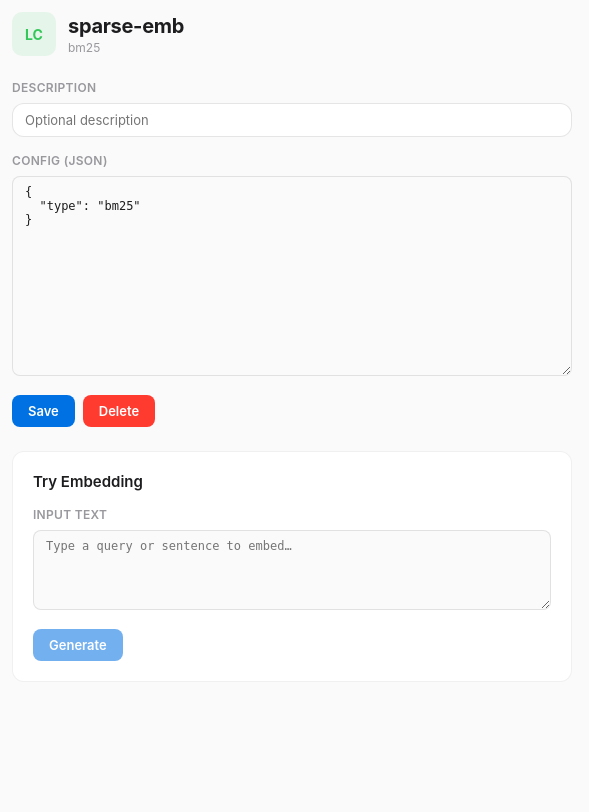
it: EmbeddingDetailPage › renders sparse try-embedding output
Expected: the text "sparse-emb" is shown, [68,14,184,38]
In the text box with placeholder "Type a query or sentence to embed…": (292, 570) [33,530,551,610], type "hello sparse"
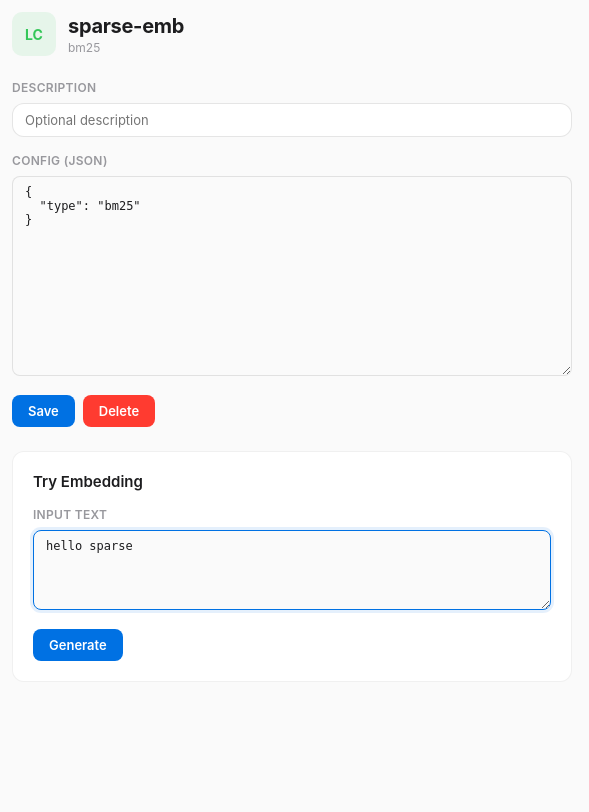
Click the button "Generate": (78, 645) [33,629,123,661]
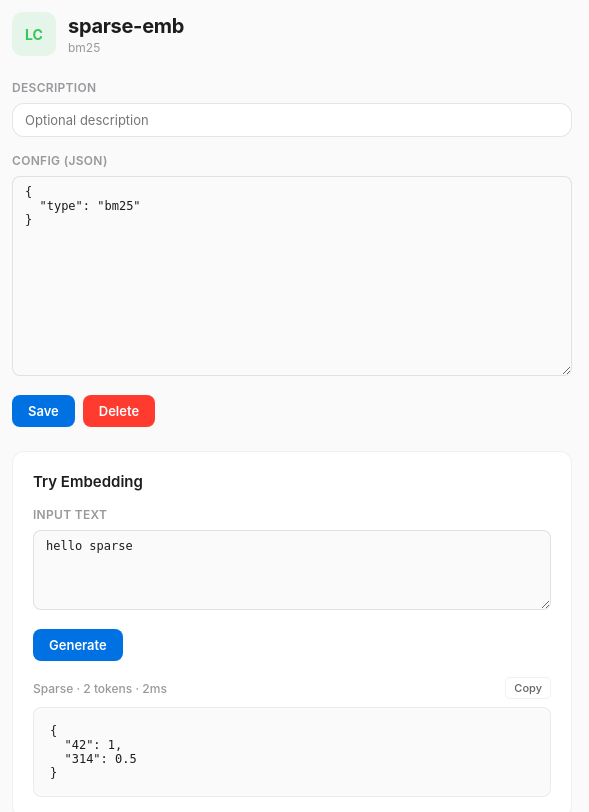
Expected: the text "Sparse · 2 tokens · 2ms" is shown, [33,680,167,696]
Expected: the text "{ \"42\": 1, \"314\": 0.5 }" is shown, [33,707,551,797]
